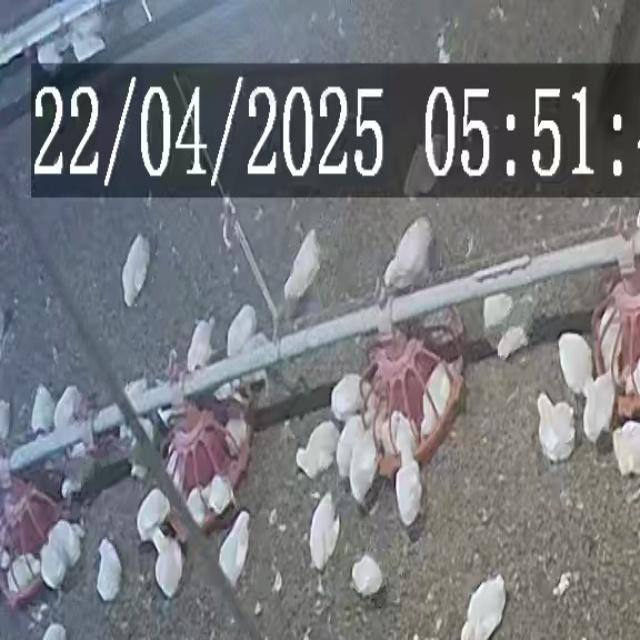chicken: (379, 216, 438, 289), (276, 227, 328, 306), (531, 388, 579, 464), (114, 231, 157, 311), (458, 574, 508, 640), (306, 486, 344, 572), (420, 357, 457, 439), (393, 442, 428, 528), (346, 419, 379, 509), (217, 511, 251, 590), (294, 422, 338, 479), (581, 373, 616, 444), (556, 332, 593, 396), (153, 532, 185, 599), (136, 488, 172, 544), (349, 552, 388, 602), (95, 538, 123, 602), (226, 304, 258, 360), (330, 373, 367, 421), (597, 312, 624, 377), (50, 519, 84, 568), (187, 318, 216, 372), (611, 421, 640, 474), (54, 384, 84, 433), (223, 405, 251, 457), (30, 383, 56, 435), (207, 475, 235, 515), (419, 387, 439, 440), (185, 487, 208, 527)
